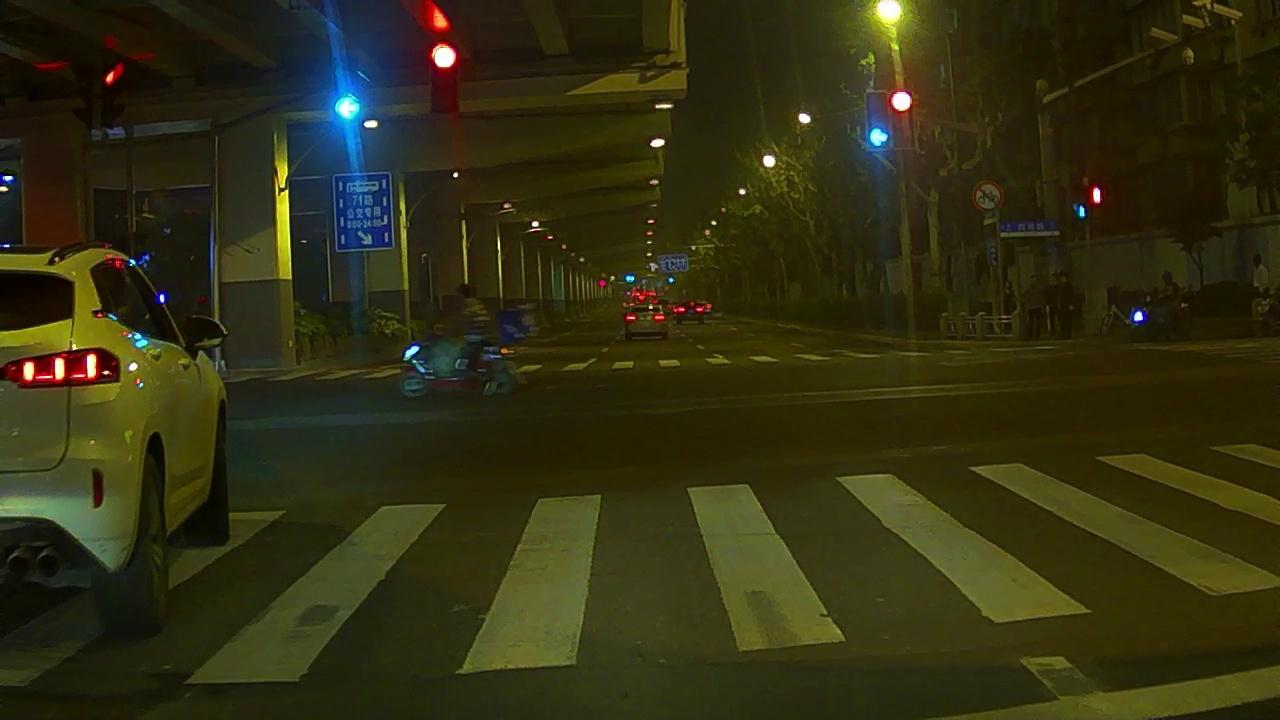traffic_light: (433, 42, 459, 110), (336, 59, 360, 129), (866, 92, 891, 152), (892, 91, 915, 153)
